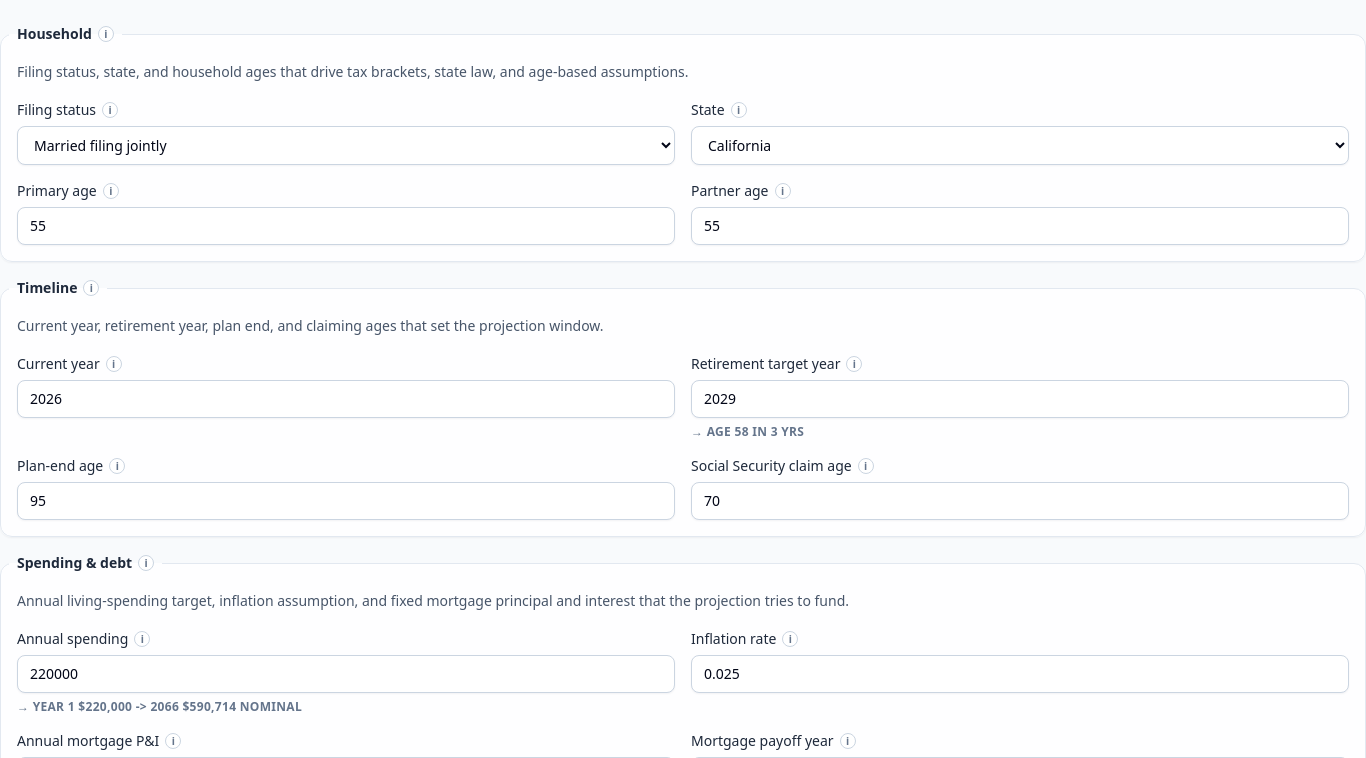
BasicForm › requires plan-end age to be greater than primary age
Step 1. Replace the text in the field labelled "Plan-end age" with "60" → [346, 501], box [17, 482, 675, 520]
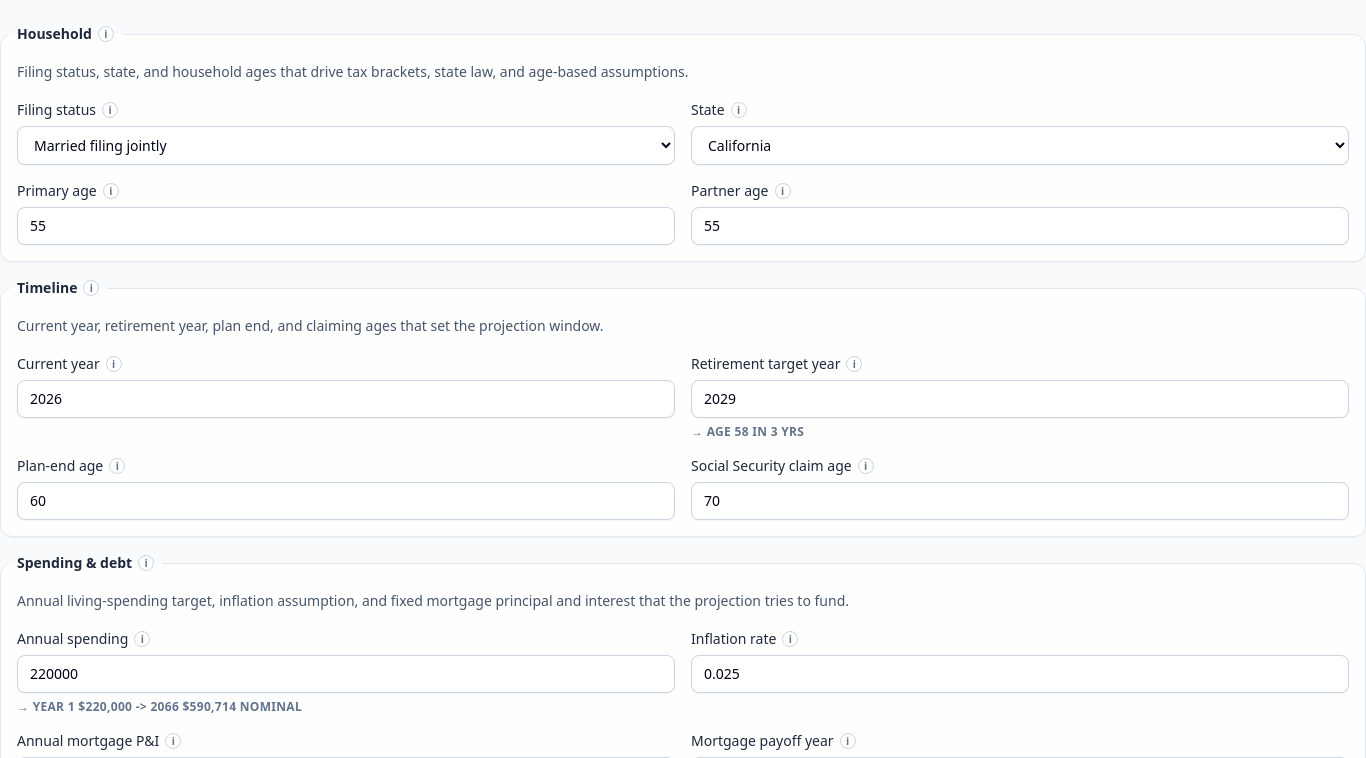
Expected: the text "Plan-end age must be greater than primary age." is not shown
Step 2. Replace the text in the field labelled "Primary age" with "60" → [346, 226], box [17, 207, 675, 245]
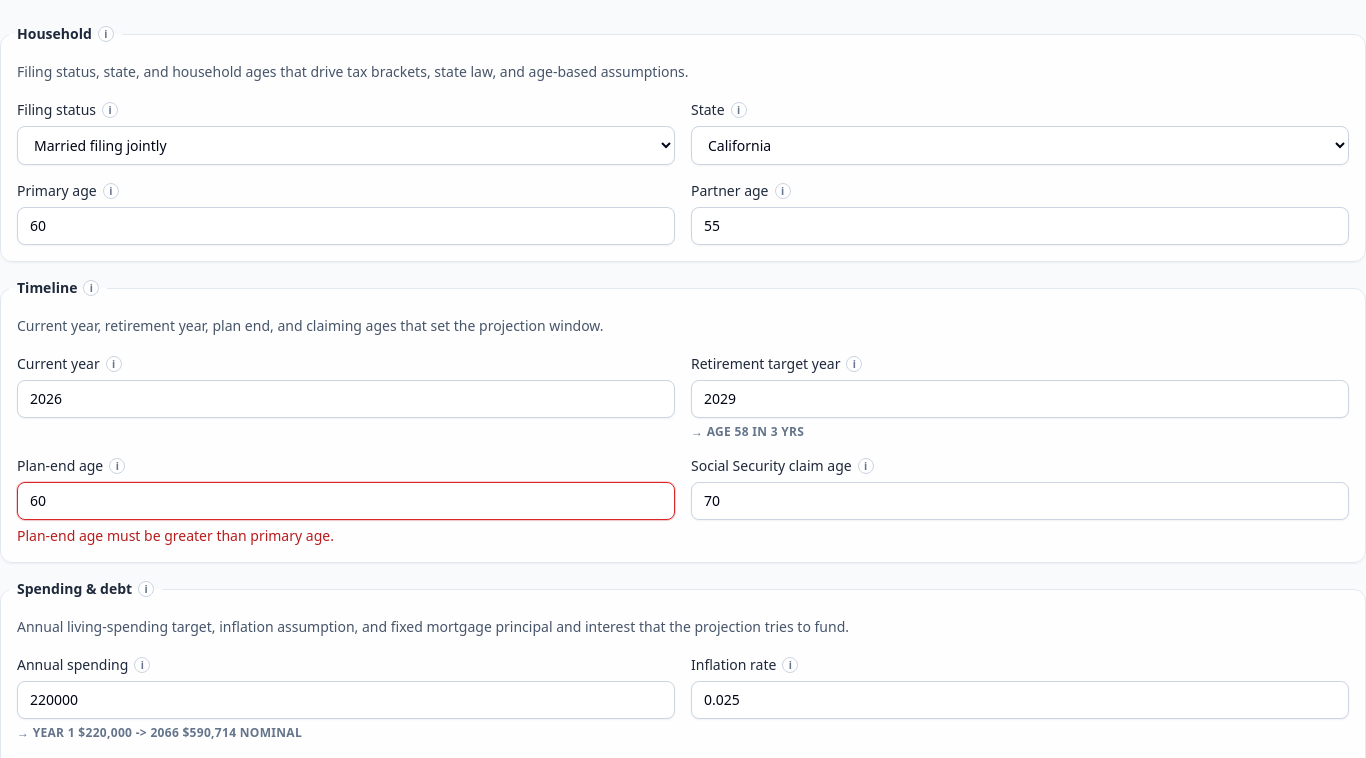
Expected: the text "Plan-end age must be greater than primary age." is shown, [17, 526, 334, 545]
